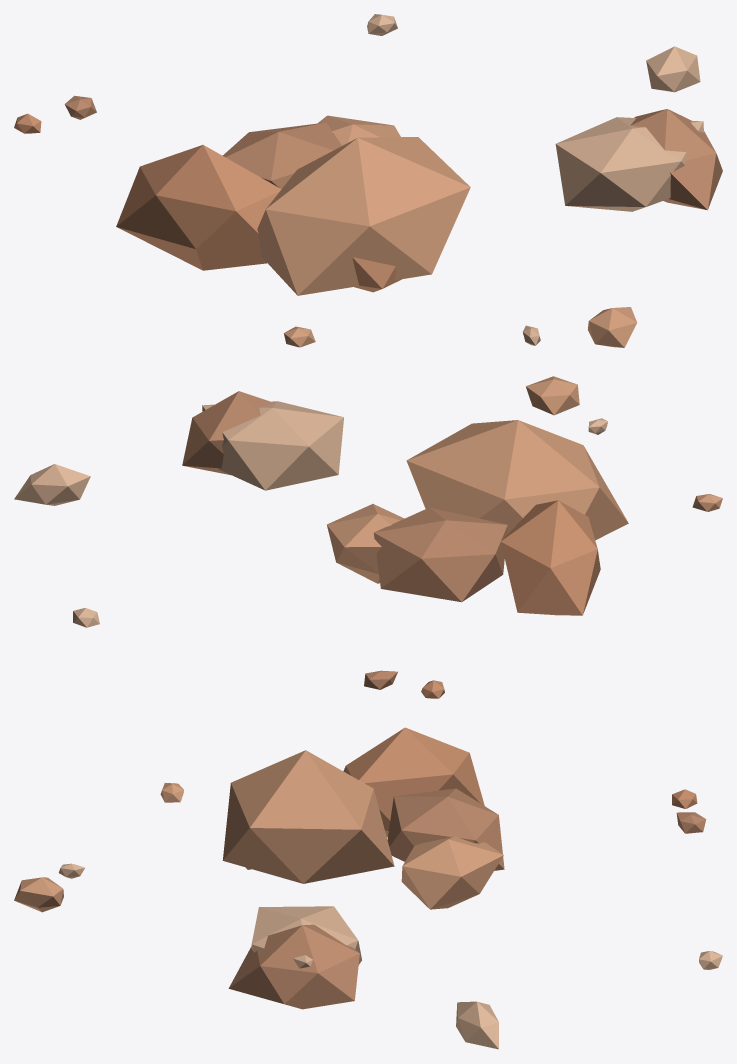
The model's file is TalusCluster.glb.
The picture shows the model from 3 angles, top to bottom: view 1: azimuth 30°, elevation 25°; view 2: azimuth 150°, elevation 25°; view 3: azimuth 270°, elevation 25°; orthographic projection. The views are drawn at different scales.
Parts seen in each view (by area): view 1: Talus block.009, Talus block.013, Talus block.004, Talus block.008, Talus block.012, Talus block.006, Talus block.002, Talus block.005, Talus block.001, Talus block.010; view 2: Talus block.009, Talus block.012, Talus block.013, Talus block.004, Talus block.008, Talus block.005, Talus block.006, Talus block.002; view 3: Talus block.009, Talus block.008, Talus block.013, Talus block.012, Talus block.005, Talus block.004, Talus block.006, Talus block.002, Talus block.010.
Boxes of the visible parts, x1,y1,x2,y2 form: Talus block.009: [257, 137, 470, 295]; Talus block.013: [116, 145, 281, 270]; Talus block.004: [555, 117, 703, 211]; Talus block.008: [630, 109, 722, 210]; Talus block.012: [222, 122, 341, 188]; Talus block.006: [646, 46, 700, 92]; Talus block.002: [587, 307, 637, 347]; Talus block.005: [317, 115, 400, 145]; Talus block.001: [352, 257, 401, 292]; Talus block.010: [64, 95, 96, 119]; Talus block.009: [406, 420, 628, 540]; Talus block.012: [373, 507, 507, 602]; Talus block.013: [501, 500, 600, 615]; Talus block.004: [202, 401, 343, 490]; Talus block.008: [182, 391, 275, 474]; Talus block.005: [327, 504, 404, 583]; Talus block.006: [14, 464, 90, 505]; Talus block.002: [526, 376, 579, 415]; Talus block.009: [222, 750, 394, 883]; Talus block.008: [228, 924, 359, 1009]; Talus block.013: [343, 727, 484, 837]; Talus block.012: [387, 788, 504, 870]; Talus block.005: [401, 836, 503, 909]; Talus block.004: [251, 906, 361, 968]; Talus block.006: [456, 1001, 498, 1049]; Talus block.002: [14, 877, 63, 912]; Talus block.010: [676, 812, 706, 833].
Bounding box in the file's own units: 3.69 × 0.8764 × 4.2.
